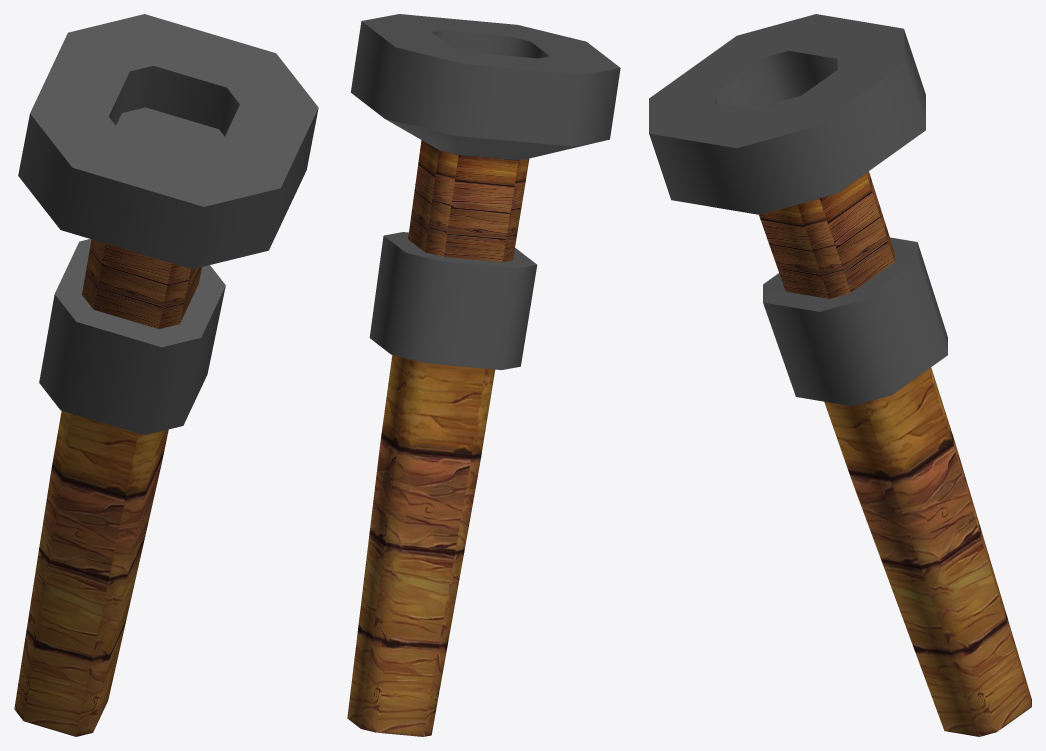
The model's file is wall_torch.FBX.
3 views of the same model, side by side, from view 1: azimuth 30°, elevation 25°; view 2: azimuth 150°, elevation 25°; view 3: azimuth 270°, elevation 25° (orthographic). The views are drawn at different scales.
Visible parts, largest first — view 1: WALL_TORCH; view 2: WALL_TORCH; view 3: WALL_TORCH.
Part boxes in pixels (<box>): WALL_TORCH: <box>14,14,318,736</box>; WALL_TORCH: <box>347,14,620,736</box>; WALL_TORCH: <box>649,14,1031,736</box>.
Size of the model in its own units: 5.21 by 14.69 by 7.49.
